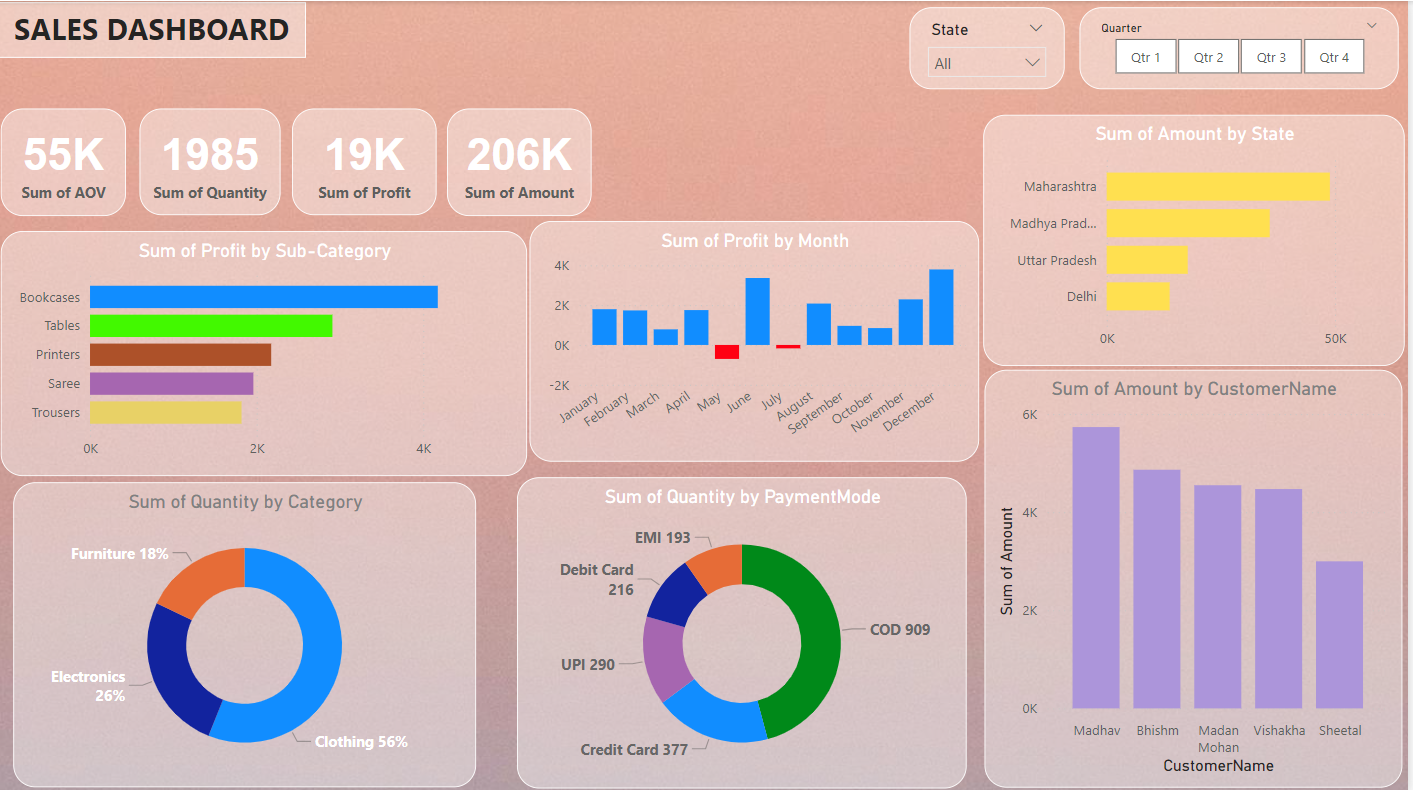

What the dashboard file says about the page in this screenshot:
{"tool":"powerbi","page":{"name":"Page 1","canvas":[1280,720],"ordinal":0},"visuals":[{"type":"columnChart","fields":{"Y":["Sum(Details.Profit)"],"Category":["Cleaned_Orders.Order Date.Variation.Date Hierarchy.Month"]},"box":[484.9,491.9,408.1,224.4],"z":0},{"type":"barChart","fields":{"Y":["Sum(Details.Profit)"],"Category":["Details.Sub-Category"]},"box":[3.5,491.9,477.9,222.1],"z":1000},{"type":"donutChart","fields":{"Category":["Details.Category"],"Y":["Sum(Details.Quantity)"]},"box":[3.5,207,419.8,276.7],"z":2000},{"type":"donutChart","fields":{"Category":["Details.PaymentMode"],"Y":["Sum(Details.Quantity)"]},"box":[434.9,207,448.8,276.7],"z":3000},{"type":"card","fields":{"Values":["Sum(Details.Amount)"]},"box":[233.7,113,123.3,87.2],"z":4000},{"type":"card","fields":{"Values":["Sum(Details.Quantity)"]},"box":[362.8,113,127.9,87.2],"z":5000},{"type":"card","fields":{"Values":["Sum(Details.Profit)"]},"box":[115.1,113,111.6,87.2],"z":6000},{"type":"card","fields":{"Values":["Sum(Details.AOV)"]},"box":[7,113,103.5,87.2],"z":7000},{"type":"barChart","fields":{"Category":["Cleaned_Orders.State"],"Y":["Sum(Details.Amount)"]},"box":[893,101.2,384.9,227.9],"z":8000},{"type":"columnChart","fields":{"Category":["Cleaned_Orders.CustomerName"],"Y":["Sum(Details.Amount)"]},"box":[896.5,334.9,379.1,379.1],"z":9000},{"type":"textbox","box":[3.5,4.7,279.1,50],"z":10000},{"type":"slicer","fields":{"Values":["Cleaned_Orders.Order Date.Variation.Date Hierarchy.Quarter"]},"box":[1023.3,18.6,251.2,74.4],"z":11000},{"type":"slicer","fields":{"Values":["Cleaned_Orders.State"]},"box":[873.3,18.6,140.7,74.4],"z":12000}]}

Visuals, with their boxes in screenshot pixels (x1, y1, x2, y2), scaled from the page's 1280x720 canvas onto the 1413x790 screenshot:
columnChart - Sum(Details.Profit) x Cleaned_Orders.Order Date.Variation.Date Hierarchy.Month: [535, 540, 986, 786]
barChart - Sum(Details.Profit) x Details.Sub-Category: [4, 540, 531, 783]
donutChart - Details.Category x Sum(Details.Quantity): [4, 227, 467, 531]
donutChart - Details.PaymentMode x Sum(Details.Quantity): [480, 227, 976, 531]
card - Sum(Details.Amount): [258, 124, 394, 220]
card - Sum(Details.Quantity): [400, 124, 542, 220]
card - Sum(Details.Profit): [127, 124, 250, 220]
card - Sum(Details.AOV): [8, 124, 122, 220]
barChart - Cleaned_Orders.State x Sum(Details.Amount): [986, 111, 1411, 361]
columnChart - Cleaned_Orders.CustomerName x Sum(Details.Amount): [990, 367, 1408, 783]
textbox: [4, 5, 312, 60]
slicer - Cleaned_Orders.Order Date.Variation.Date Hierarchy.Quarter: [1130, 20, 1407, 102]
slicer - Cleaned_Orders.State: [964, 20, 1119, 102]
